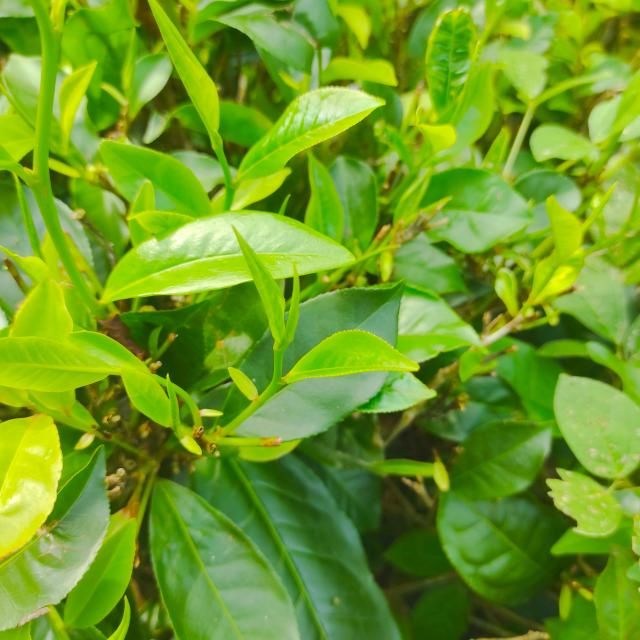unopened_leaf: (7, 168, 54, 268), (384, 187, 464, 242), (273, 258, 308, 369), (568, 176, 624, 245), (162, 366, 190, 440), (105, 593, 139, 640), (273, 192, 295, 215)
